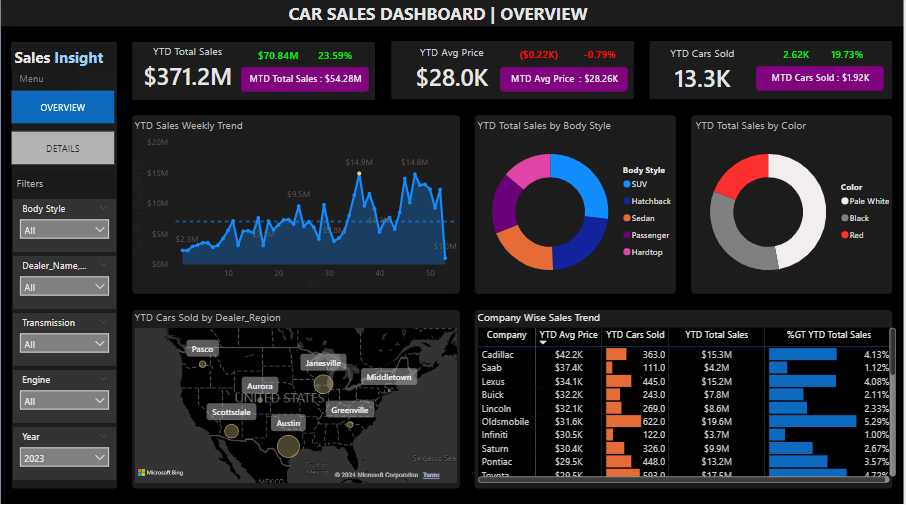

What the dashboard file says about the page in this screenshot:
{"tool":"powerbi","page":{"name":"OVERVIEW","canvas":[1280,720],"ordinal":0},"visuals":[{"type":"card","title":"YTD Total Sales","fields":{"Values":["car_data.YTD Total Sales"]},"box":[187.1,65.2,157.3,70.9],"z":0},{"type":"card","fields":{"Values":["car_data.Sales Difference"]},"box":[354.4,62.2,80.6,40.3],"z":1000},{"type":"card","fields":{"Values":["car_data.YOY Sales Growth"]},"box":[435.1,62.2,80.6,40.3],"z":2000},{"type":"card","fields":{"Values":["car_data.MTD KPI"]},"box":[341,97.4,181.4,35.3],"z":3000},{"type":"card","title":"YTD Avg Price","fields":{"Values":["car_data.YTD Avg Price"]},"box":[561,67.2,157.9,70.6],"z":4000},{"type":"card","fields":{"Values":["car_data.Avg Price Diff"]},"box":[722.3,60.5,80.6,40.3],"z":5000},{"type":"card","fields":{"Values":["car_data.YOY Avg Price Growth"]},"box":[809.7,60.5,80.6,40.3],"z":6000},{"type":"card","fields":{"Values":["car_data.MTD Avg Price KPI"]},"box":[708.9,97.4,181.4,35.3],"z":7000},{"type":"card","title":"YTD Cars Sold","fields":{"Values":["car_data.YTD Cars Sold"]},"box":[916.6,67.6,157,71.2],"z":8000},{"type":"card","fields":{"Values":["car_data.Cars Sold Diff"]},"box":[1088.3,60.3,80.3,40.2],"z":9000},{"type":"card","fields":{"Values":["car_data.YOY Car Sold Growth"]},"box":[1161.3,60.3,80.3,40.2],"z":10000},{"type":"card","fields":{"Values":["car_data.MTD Cars Sold KPI"]},"box":[1071.8,96.8,180.8,34.7],"z":11000},{"type":"areaChart","title":"YTD Sales Weekly Trend","fields":{"Category":["Calendar Table.Week"],"Y":["Sum(car_data.Price ($))","car_data.Max Point"]},"box":[186.2,169.8,467.4,246.5],"z":12000},{"type":"donutChart","fields":{"Category":["car_data.Body Style"],"Y":["car_data.YTD Total Sales"]},"box":[672,169.8,294,246.5],"z":13000},{"type":"donutChart","fields":{"Category":["car_data.Color"],"Y":["car_data.YTD Total Sales"]},"box":[980.5,169.8,294,246.5],"z":14000},{"type":"map","fields":{"Category":["car_data.Dealer_Region"],"Size":["car_data.YTD Cars Sold"]},"box":[186.2,441.9,467.4,250.2],"z":15000},{"type":"tableEx","title":"Company Wise Sales Trend","fields":{"Values":["car_data.Company","car_data.YTD Avg Price","car_data.YTD Cars Sold","car_data.YTD Total Sales1","car_data.YTD Total Sales"]},"box":[672,441.9,602.6,250.2],"z":16000},{"type":"textbox","box":[403.9,0,440.8,80.8],"z":17000},{"type":"slicer","fields":{"Values":["car_data.Body Style"]},"box":[18.4,284.9,146,75.1],"z":18000},{"type":"slicer","fields":{"Values":["car_data.Dealer_Name","car_data.Body Style"]},"box":[18.4,365.7,146,75.1],"z":19000},{"type":"slicer","fields":{"Values":["car_data.Transmission"]},"box":[18.4,446.5,146,75.1],"z":20000},{"type":"slicer","fields":{"Values":["car_data.Engine"]},"box":[18.4,527.2,146,75.1],"z":21000},{"type":"textbox","box":[18.4,246.6,144.6,34],"z":22000},{"type":"textbox","box":[22.7,100.6,87.9,32.6],"z":24000},{"type":"pageNavigator","box":[15.6,130.4,147.4,106.3],"z":25000},{"type":"slicer","fields":{"Values":["Calendar Table.Year"]},"box":[18.4,608,146,75.1],"z":26000},{"type":"textbox","box":[15.6,63.8,148.8,38.3],"z":26001}]}

Visuals, with their boxes on the page's 1280x720 design canvas (x1, y1, x2, y2). These are canvas units, not pixel positions in the 906x505 screenshot, which may show the page scaled, cropped or inside an application window:
"YTD Total Sales" card: (187, 65, 344, 136)
card - car_data.Sales Difference: (354, 62, 435, 102)
card - car_data.YOY Sales Growth: (435, 62, 516, 102)
card - car_data.MTD KPI: (341, 97, 522, 133)
"YTD Avg Price" card: (561, 67, 719, 138)
card - car_data.Avg Price Diff: (722, 60, 803, 101)
card - car_data.YOY Avg Price Growth: (810, 60, 890, 101)
card - car_data.MTD Avg Price KPI: (709, 97, 890, 133)
"YTD Cars Sold" card: (917, 68, 1074, 139)
card - car_data.Cars Sold Diff: (1088, 60, 1169, 100)
card - car_data.YOY Car Sold Growth: (1161, 60, 1242, 100)
card - car_data.MTD Cars Sold KPI: (1072, 97, 1253, 132)
"YTD Sales Weekly Trend" areaChart: (186, 170, 654, 416)
donutChart - car_data.Body Style x car_data.YTD Total Sales: (672, 170, 966, 416)
donutChart - car_data.Color x car_data.YTD Total Sales: (980, 170, 1274, 416)
map - car_data.Dealer_Region x car_data.YTD Cars Sold: (186, 442, 654, 692)
"Company Wise Sales Trend" tableEx: (672, 442, 1275, 692)
textbox: (404, 0, 845, 81)
slicer - car_data.Body Style: (18, 285, 164, 360)
slicer - car_data.Dealer_Name x car_data.Body Style: (18, 366, 164, 441)
slicer - car_data.Transmission: (18, 446, 164, 522)
slicer - car_data.Engine: (18, 527, 164, 602)
textbox: (18, 247, 163, 281)
textbox: (23, 101, 111, 133)
pageNavigator: (16, 130, 163, 237)
slicer - Calendar Table.Year: (18, 608, 164, 683)
textbox: (16, 64, 164, 102)
